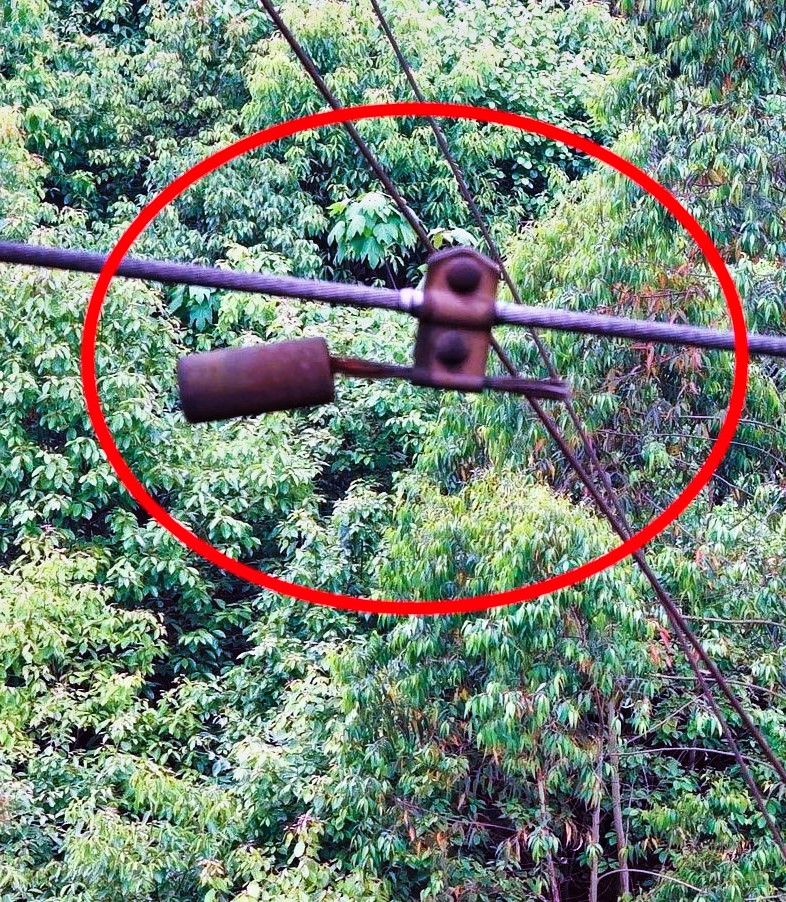Damage of shockproof hammer: (146, 216, 600, 437)
